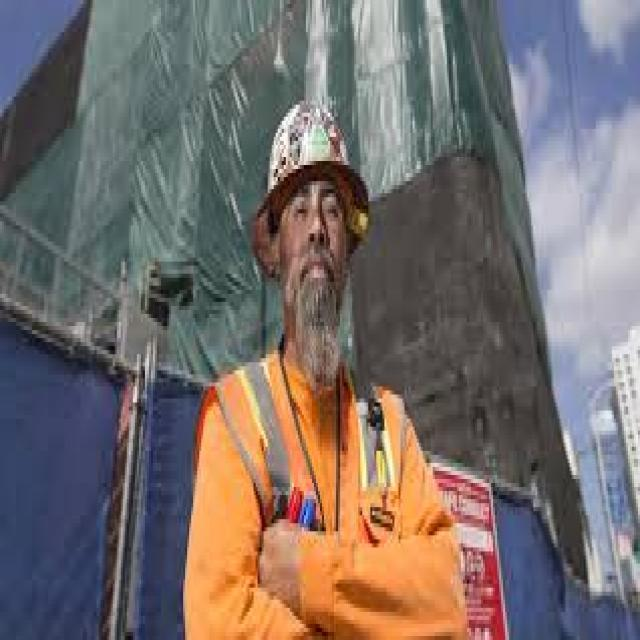Reflective-Jacket: (172, 342, 478, 640)
Safety-Helmet: (240, 80, 382, 254)
